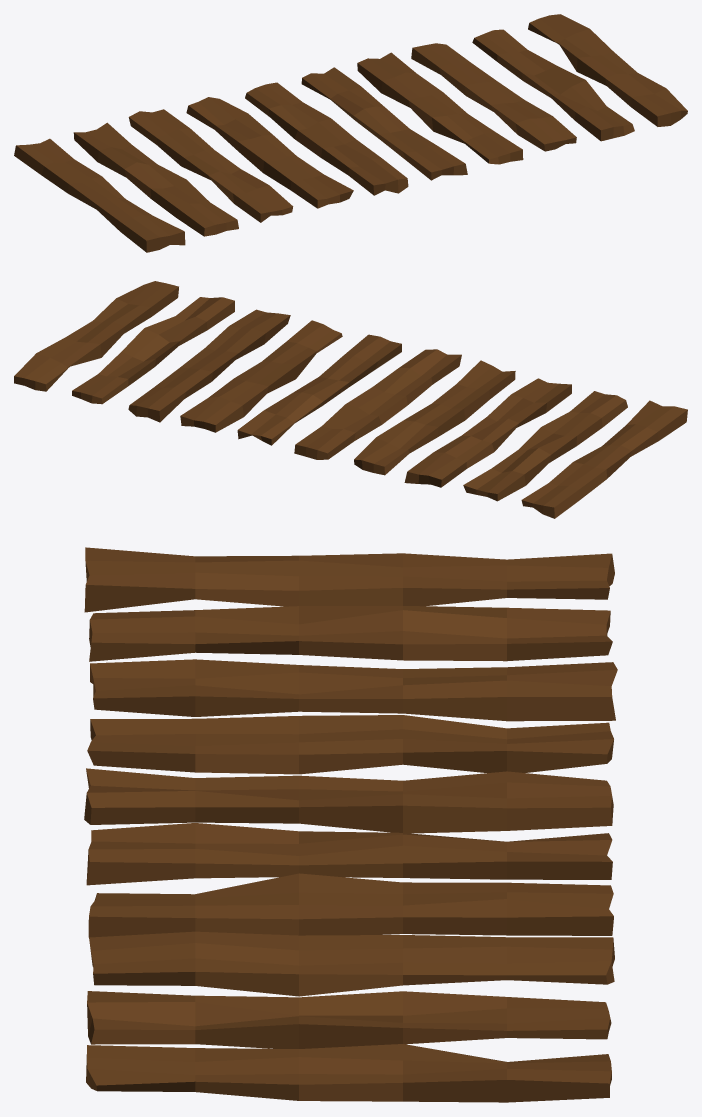
File: PathBoards.fbx
3 views of the same model, one above another, from view 1: azimuth 30°, elevation 25°; view 2: azimuth 150°, elevation 25°; view 3: azimuth 270°, elevation 25° (orthographic). The views are drawn at different scales.
Visible parts, largest first — view 1: PathBoards; view 2: PathBoards; view 3: PathBoards.
Part boxes in pixels (<box>): PathBoards: <box>14,14,687,252</box>; PathBoards: <box>14,281,687,518</box>; PathBoards: <box>84,547,617,1102</box>.
Size of the model in its own units: 555 by 19.46 by 235.
